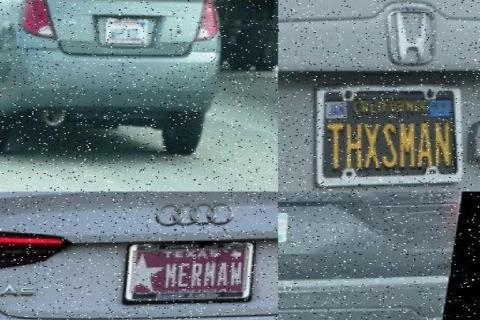LicensePlate: (305, 83, 480, 185), (127, 239, 260, 303), (108, 15, 158, 46)
